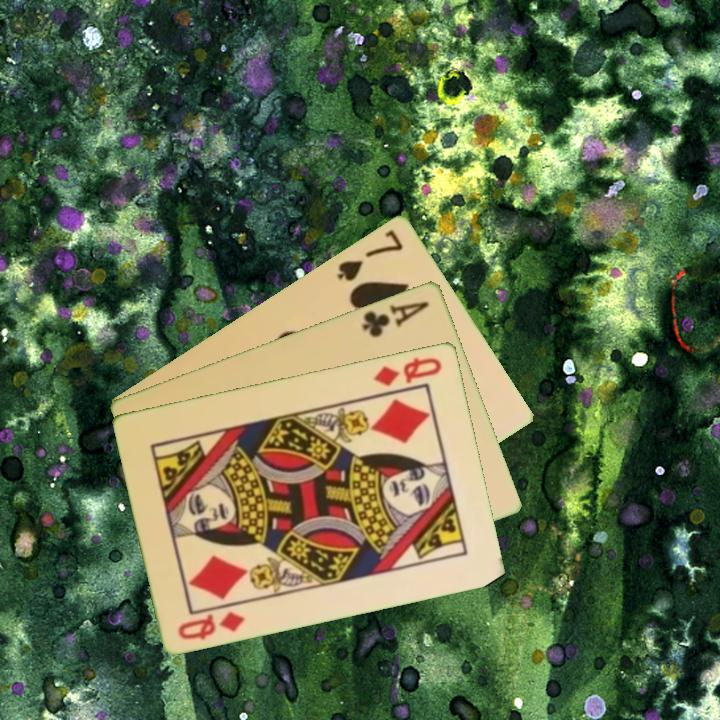7s: (333, 225, 406, 284)
Ac: (359, 297, 432, 340)
Qd: (370, 353, 446, 389), (174, 607, 248, 642)
